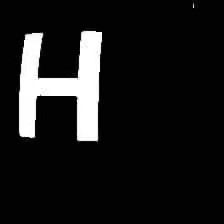LTR_H: (8, 22, 107, 143)
